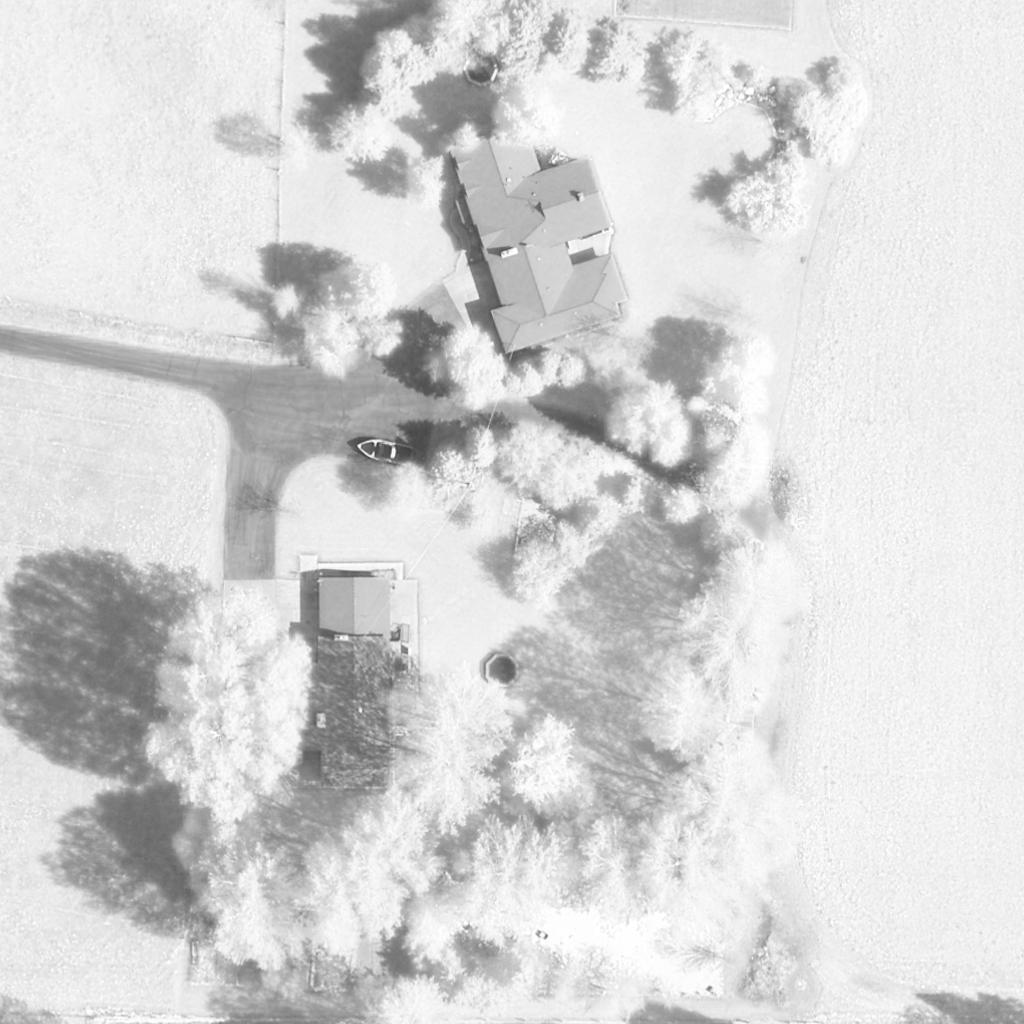vehicle: (352, 436, 418, 472)
